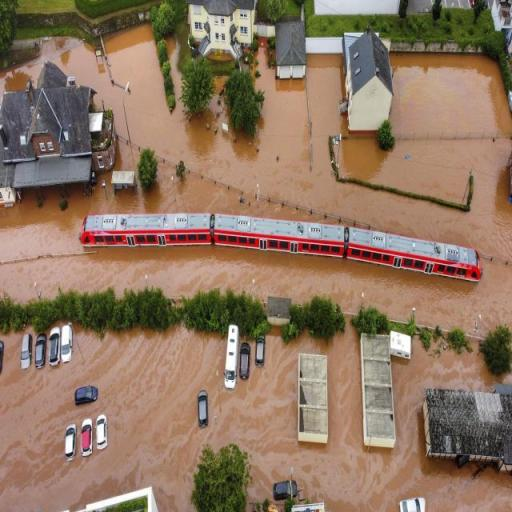flood: (0, 25, 512, 339), (0, 325, 512, 512), (0, 326, 512, 512), (0, 37, 127, 138), (166, 36, 182, 110), (206, 76, 228, 123)
house: (0, 56, 98, 195), (423, 385, 510, 468), (342, 32, 393, 134), (188, 2, 258, 62), (274, 18, 306, 80)
